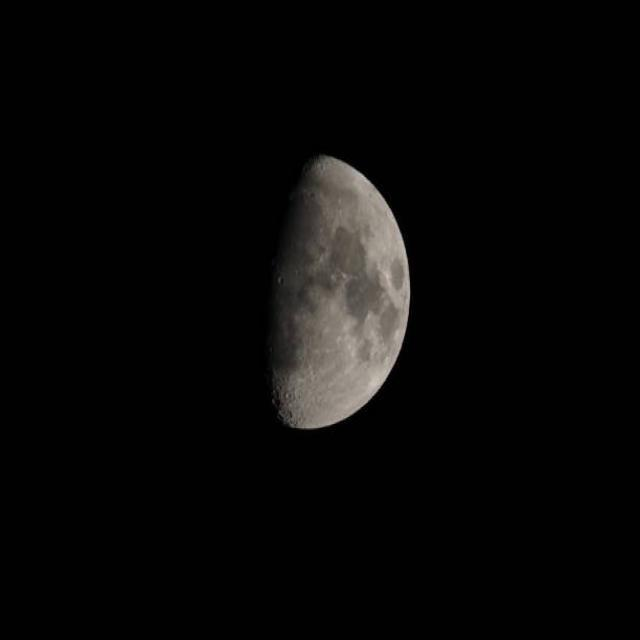moon: (185, 152, 413, 430)
